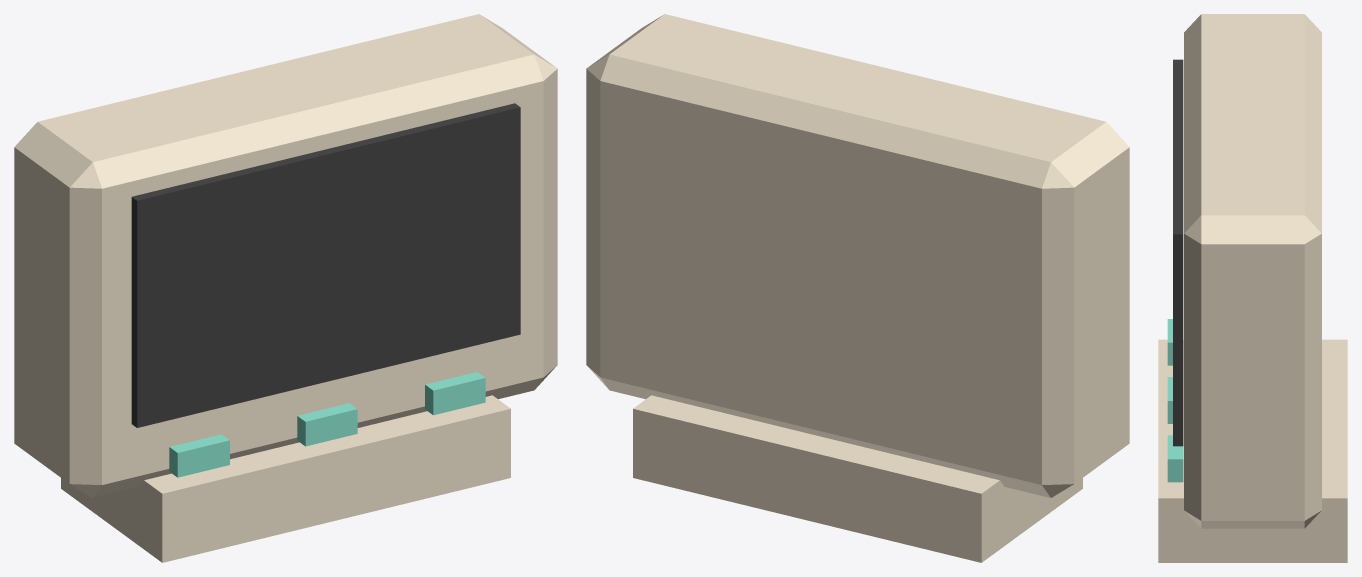
The picture shows the model from 3 angles, left to right: view 1: azimuth 30°, elevation 25°; view 2: azimuth 150°, elevation 25°; view 3: azimuth 270°, elevation 25°; orthographic projection. The views are drawn at different scales.
Parts seen in each view (by area): view 1: Housing, Readout, Foot, Control, Control.001, Control.002; view 2: Housing, Foot; view 3: Housing, Foot, Readout, Control.002, Control, Control.001.
Part boxes in pixels (x1,y1,x2,y2): Housing: [14, 14, 557, 497]; Readout: [131, 103, 520, 427]; Foot: [61, 395, 510, 562]; Control: [169, 434, 229, 477]; Control.001: [297, 403, 357, 446]; Control.002: [425, 372, 485, 415]; Housing: [586, 14, 1129, 497]; Foot: [633, 395, 1082, 562]; Housing: [1184, 14, 1321, 528]; Foot: [1158, 339, 1347, 562]; Readout: [1173, 59, 1183, 446]; Control.002: [1167, 435, 1183, 482]; Control: [1167, 319, 1172, 365]; Control.001: [1167, 377, 1172, 423].
Bounding box in the file's own units: 0.672 × 0.52 × 0.242.
1 material, 1 textured.
